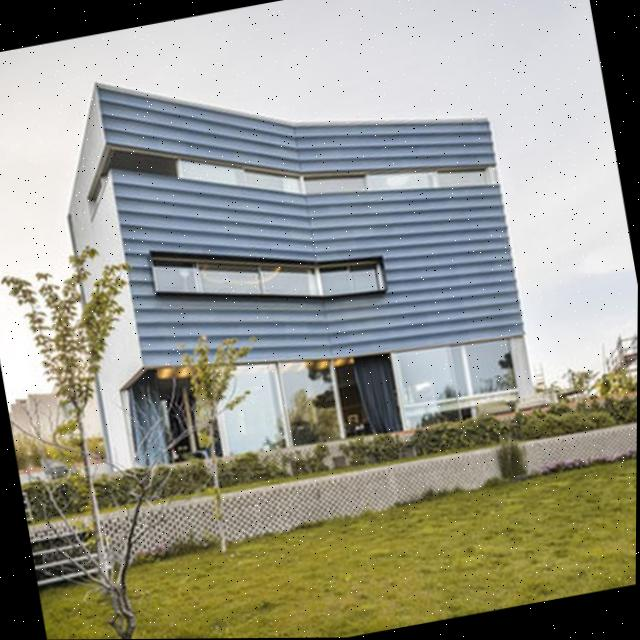building: (38, 6, 546, 483)
